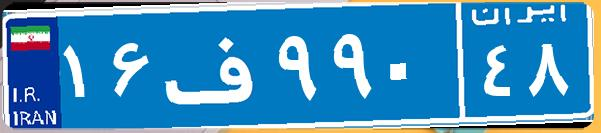0: (385, 28, 445, 110)
1: (57, 26, 110, 107)
4: (475, 38, 525, 113)
6: (110, 28, 158, 105)
8: (525, 38, 570, 115)
9: (273, 28, 330, 110), (330, 28, 385, 110)
ف: (158, 15, 273, 115)
